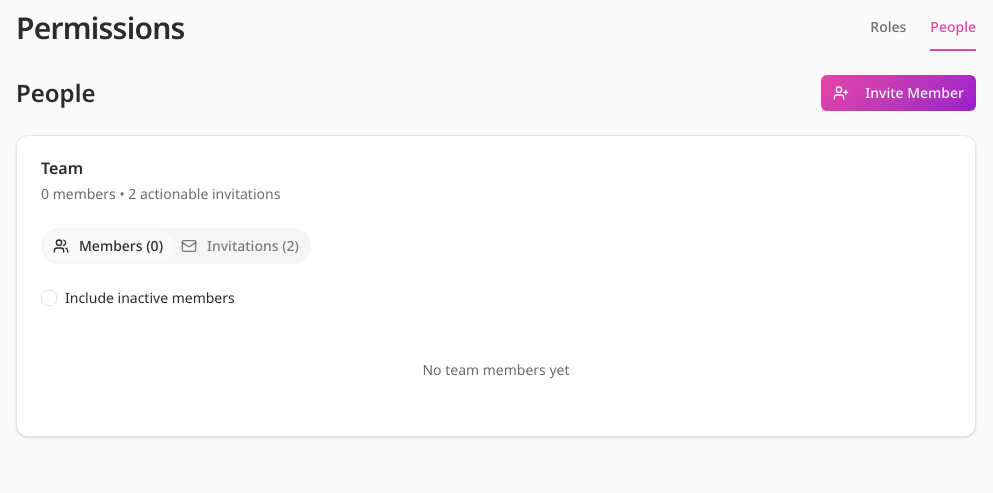
Test: TeamSettingsPage invitations tab › shows pending and expired invites in Invitations tab
The width and height of the screenshot is (993, 493).
Click the tab "Invitations (2)" at point(240, 246), box [172,231,308,261]
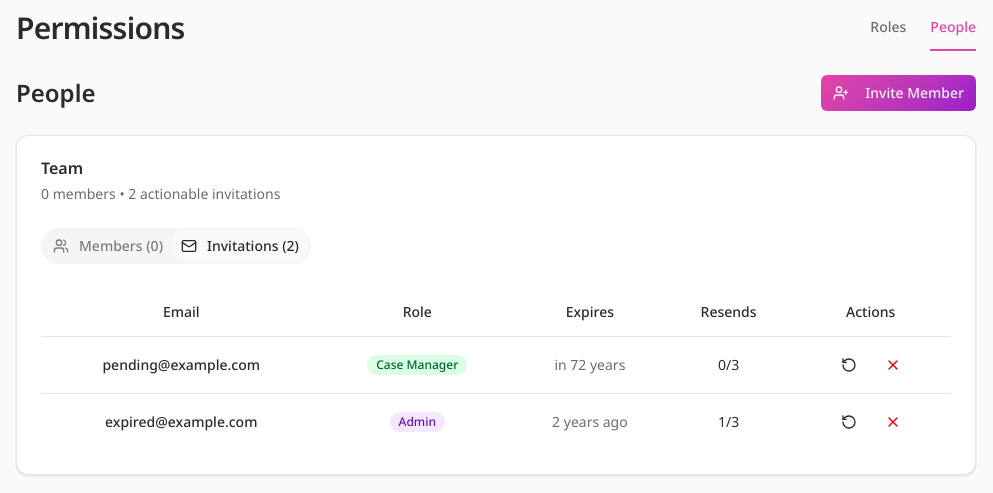
Result: the text "pending@example.com" is shown at [41,336,322,393]
Result: the text "expired@example.com" is shown at [41,393,322,450]
